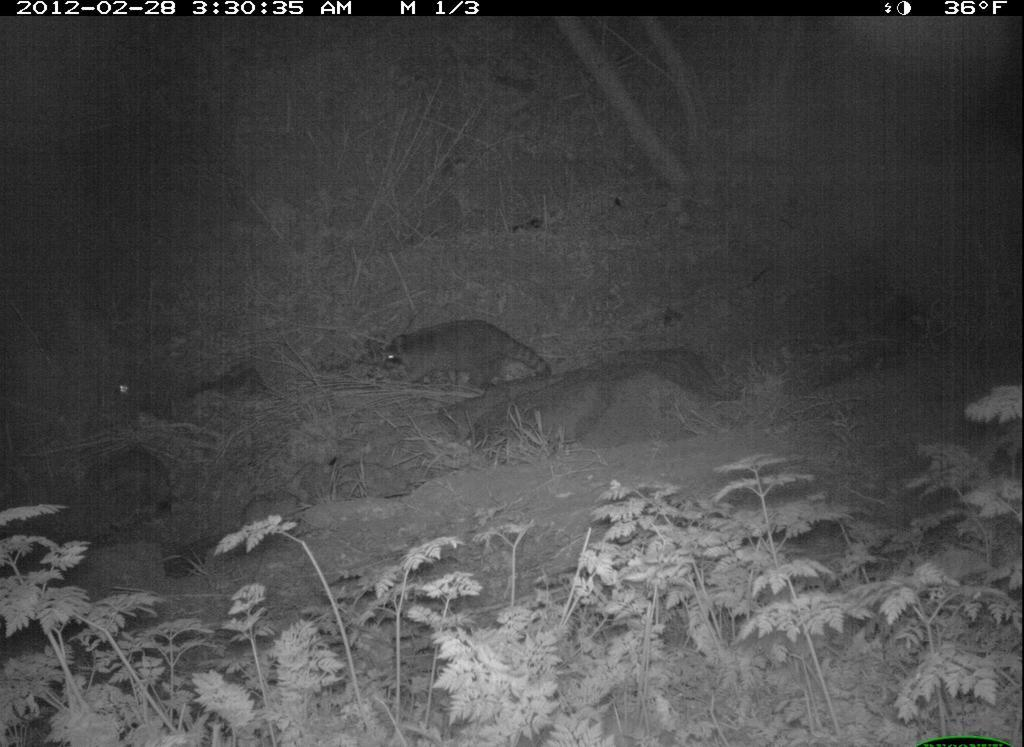raccoon: (365, 316, 564, 418)
